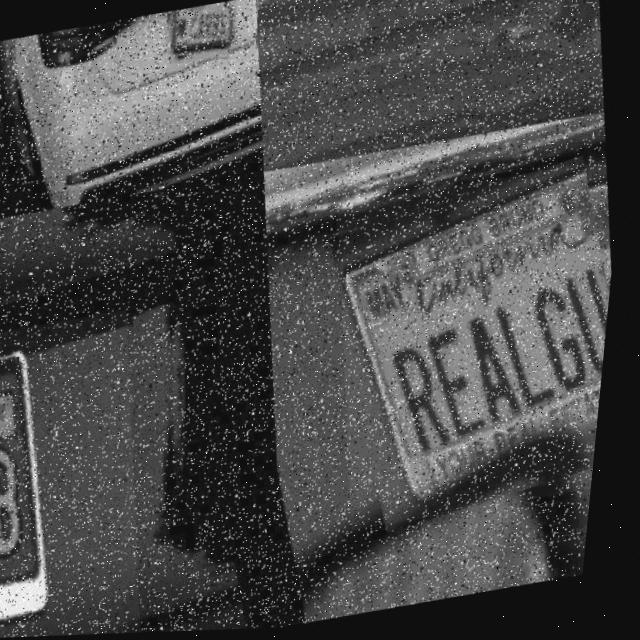LicensePlate: (317, 163, 626, 535), (0, 309, 180, 640), (249, 0, 373, 58), (159, 1, 244, 68)
